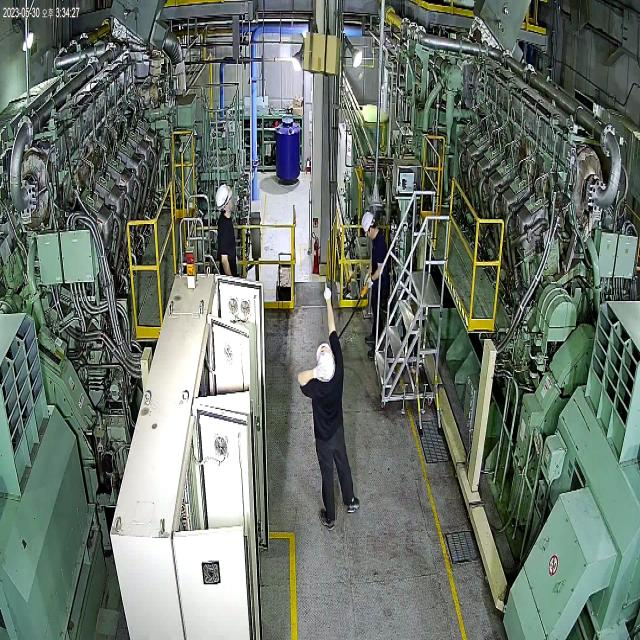Water Tank: (271, 108, 305, 190)
worker: (292, 280, 366, 540), (357, 206, 392, 364), (208, 175, 241, 274)
